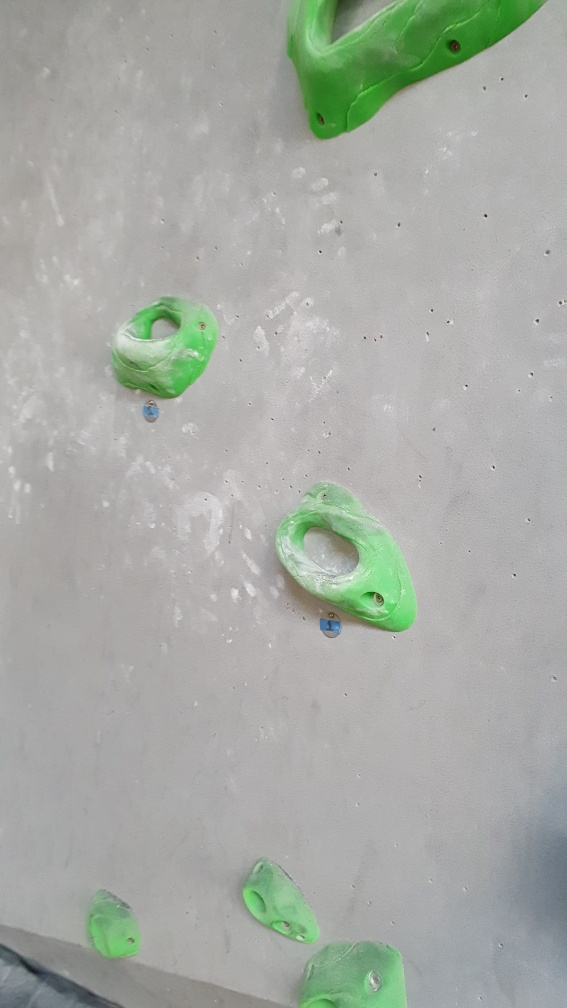Hand Start: (315, 608, 342, 641), (141, 396, 163, 428)
Pocket: (282, 1, 546, 144), (274, 479, 418, 635), (111, 288, 221, 401)
